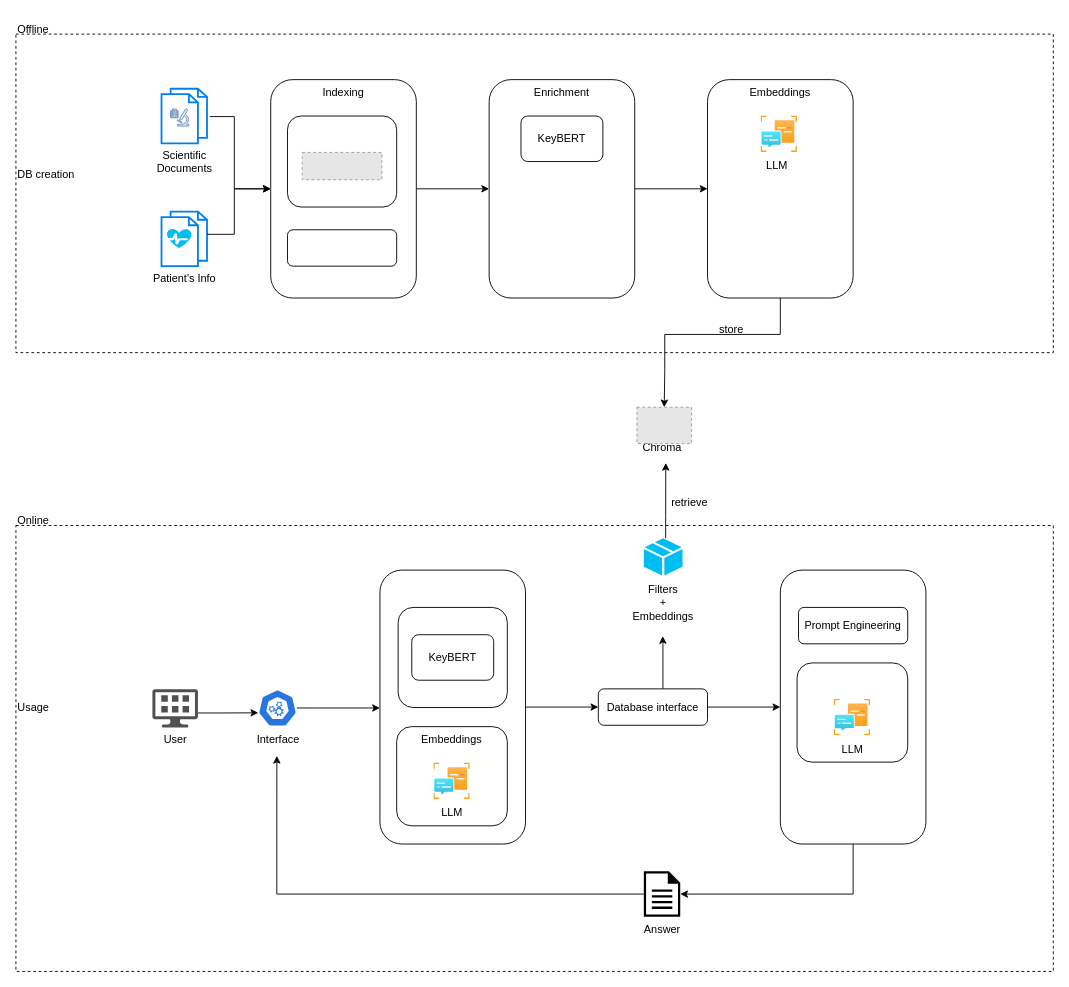
This 1069x987 diagram has some shape labels left out. Grey dashed boxes stand in for pictures. Each missing label, with the box of its shape:
AI Processor: (779, 569, 926, 844)
Filtering: (397, 607, 507, 708)
LLM query: (796, 662, 908, 762)
PDF Processor: (287, 115, 397, 207)
Query pre-processing: (379, 569, 526, 844)
Text Processor: (287, 229, 397, 266)
